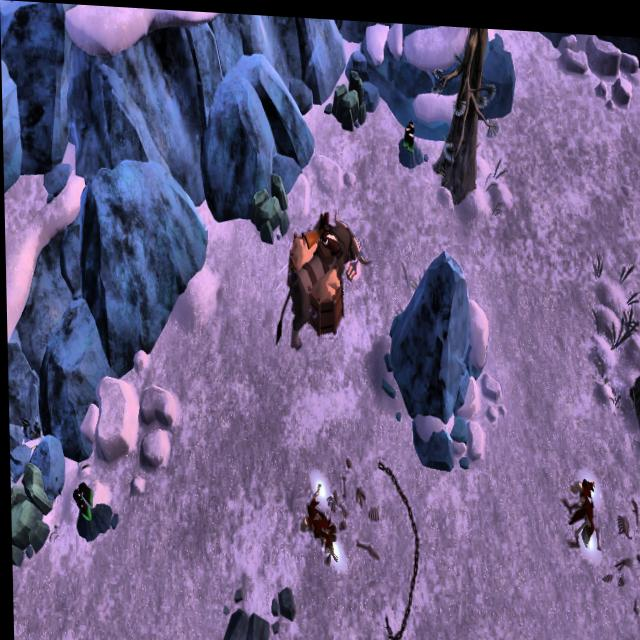enemy_factionUndead: (296, 475, 344, 565), (562, 463, 600, 546)
ore_t3: (70, 479, 95, 526), (404, 117, 415, 153)
rock_t3: (8, 453, 54, 560), (246, 165, 293, 245), (329, 61, 367, 129)
